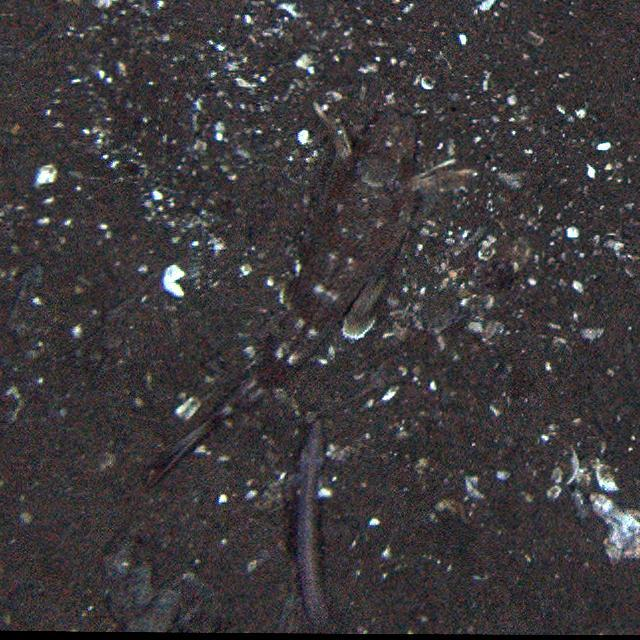eel: (287, 418, 349, 634)
